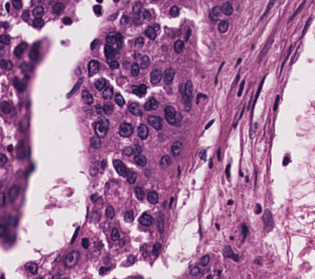nucleus: (164, 106, 180, 124), (67, 78, 82, 97), (64, 250, 79, 267), (94, 119, 108, 137), (223, 245, 238, 260), (113, 160, 127, 176), (263, 210, 273, 230), (147, 115, 161, 129), (29, 42, 39, 60), (163, 68, 174, 84), (128, 102, 141, 115), (119, 123, 132, 136), (139, 213, 152, 226), (144, 98, 158, 110), (88, 60, 99, 75), (150, 69, 161, 84), (137, 124, 148, 139), (182, 81, 192, 97), (133, 84, 146, 96), (171, 141, 182, 155), (104, 44, 114, 59), (134, 154, 146, 166), (145, 26, 156, 39), (106, 32, 116, 46), (82, 90, 92, 104), (114, 93, 124, 106), (160, 155, 170, 168), (95, 78, 105, 90), (102, 87, 112, 99), (90, 135, 100, 147), (147, 191, 157, 203), (71, 227, 79, 242), (140, 55, 149, 68), (127, 170, 136, 183), (152, 242, 161, 255), (174, 40, 183, 52), (135, 187, 144, 199), (157, 215, 163, 233), (131, 63, 139, 76), (89, 162, 97, 175), (106, 205, 114, 218), (103, 102, 112, 113), (124, 210, 133, 221), (237, 81, 244, 95), (111, 228, 119, 240), (241, 224, 247, 239), (200, 255, 209, 265), (273, 96, 279, 110), (135, 37, 143, 47), (90, 39, 98, 49), (123, 147, 133, 155), (81, 238, 89, 248), (116, 32, 121, 47), (109, 60, 118, 68), (96, 105, 104, 114), (191, 267, 200, 275), (205, 120, 213, 128), (99, 267, 108, 274), (225, 164, 229, 178), (91, 193, 98, 201), (185, 29, 190, 40), (199, 150, 205, 159), (283, 157, 289, 165), (128, 255, 134, 263), (255, 204, 260, 213), (217, 148, 220, 160), (101, 160, 106, 167), (210, 159, 212, 167), (228, 200, 232, 204), (237, 59, 240, 64)
